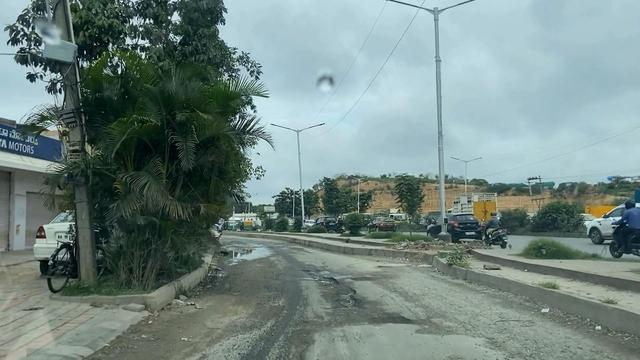RoadDamages: (327, 292, 420, 330), (299, 259, 386, 290)
